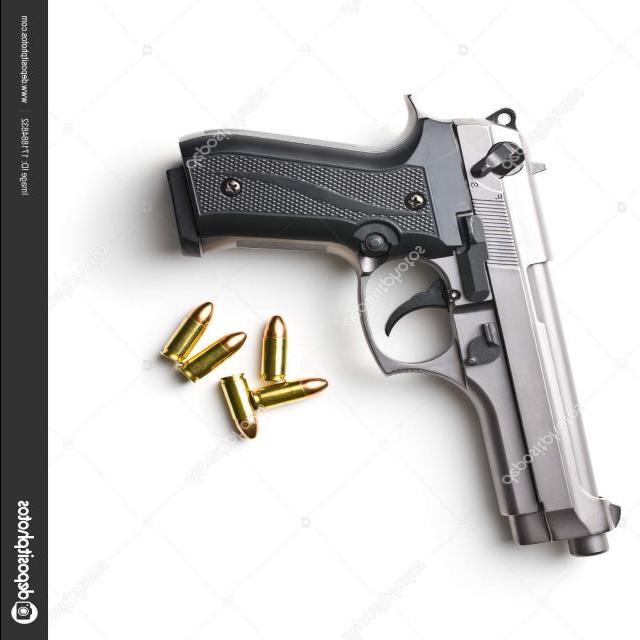pistol: (156, 91, 631, 566)
